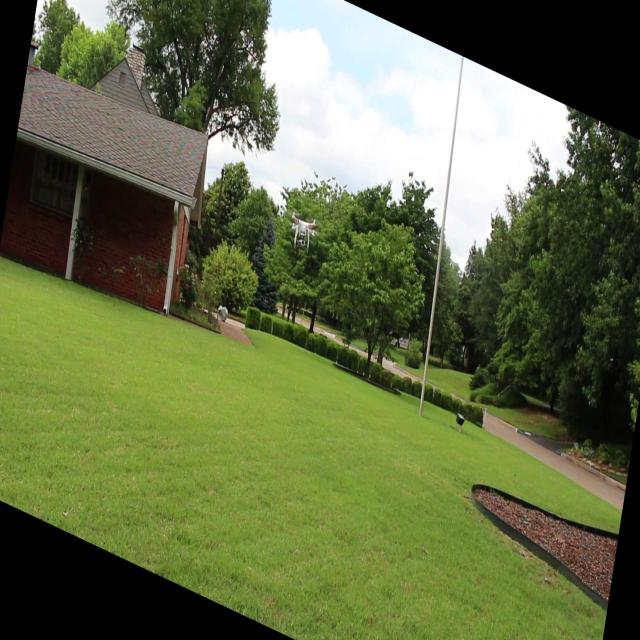drone: (286, 203, 319, 254)
